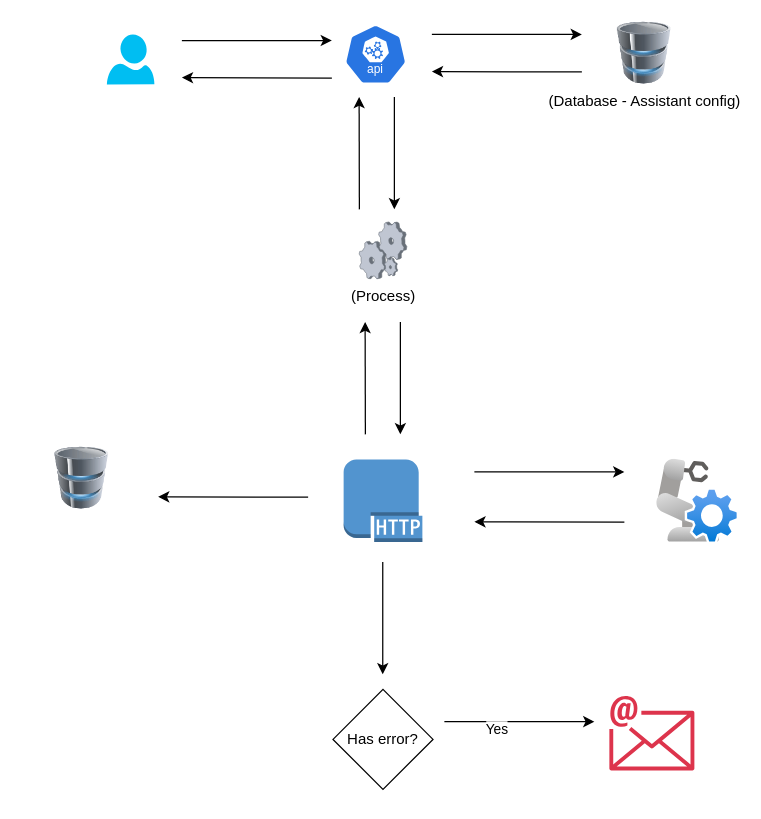
Some shapes in this 761 by 819 pixel diagram are drawn without their labels. The shapes that lost their labels are listed below. From the top down, each one's box as (x1, y1, x2, y2) in pixels, then its label:
(31, 446, 131, 509): (Database - Logs)
(609, 695, 694, 770): (Notification)
